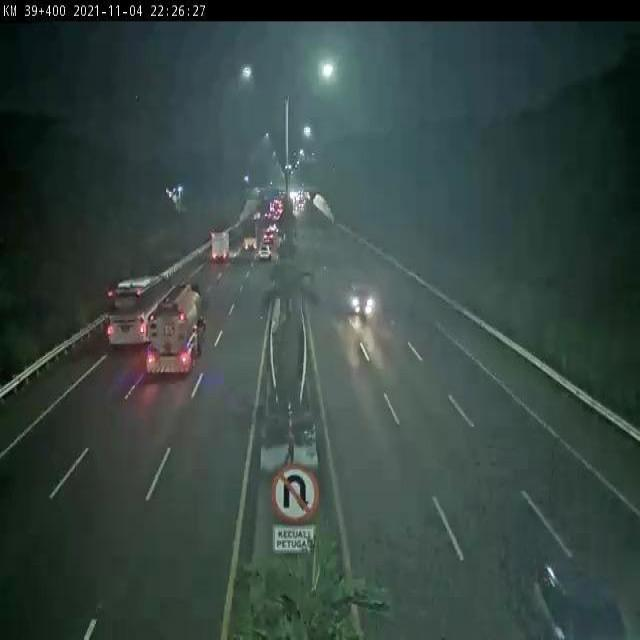bus-l-: (105, 272, 173, 348)
car: (529, 552, 627, 640), (345, 274, 378, 322), (258, 245, 273, 264), (262, 230, 276, 246)
truck-l-: (210, 228, 233, 268)
truck-xl-: (145, 281, 209, 379)
